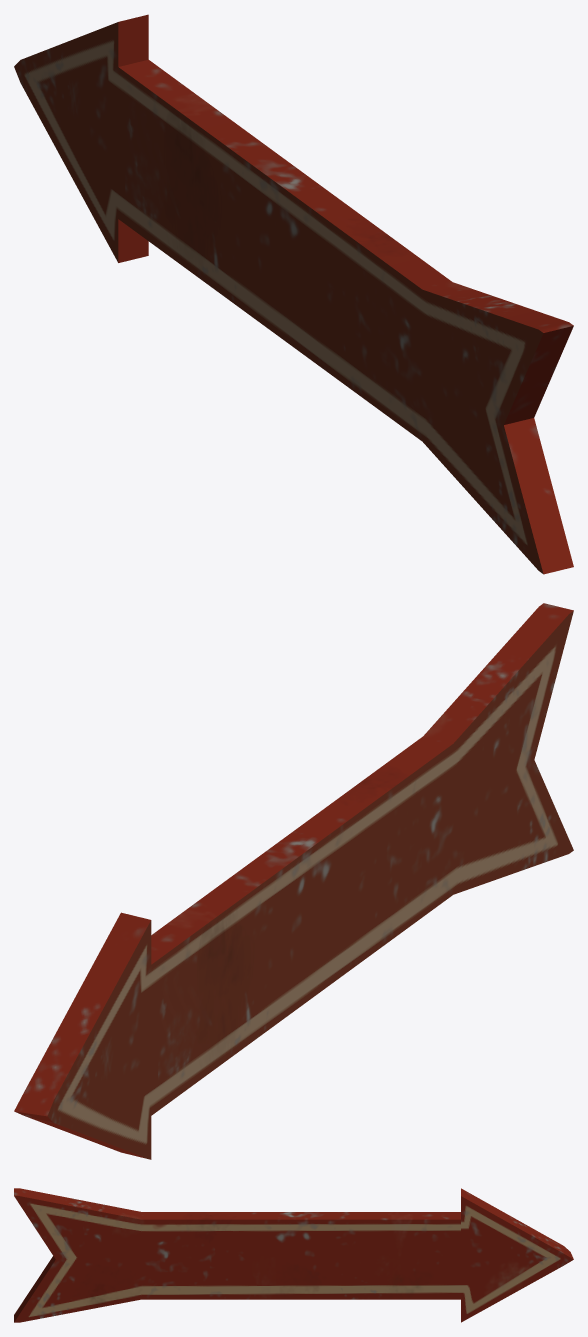
The model's file is ArrowSign_1.fbx.
3 views of the same model, one above another, from view 1: azimuth 30°, elevation 25°; view 2: azimuth 150°, elevation 25°; view 3: azimuth 270°, elevation 25° (orthographic). The views are drawn at different scales.
Parts seen in each view (by area): view 1: ArrowSign; view 2: ArrowSign; view 3: ArrowSign.
Part boxes in pixels (bbox=[...]): ArrowSign: bbox=[14, 14, 573, 574]; ArrowSign: bbox=[14, 603, 573, 1159]; ArrowSign: bbox=[14, 1188, 573, 1322].
Size of the model in its own units: 4.65 by 35.32 by 141.
